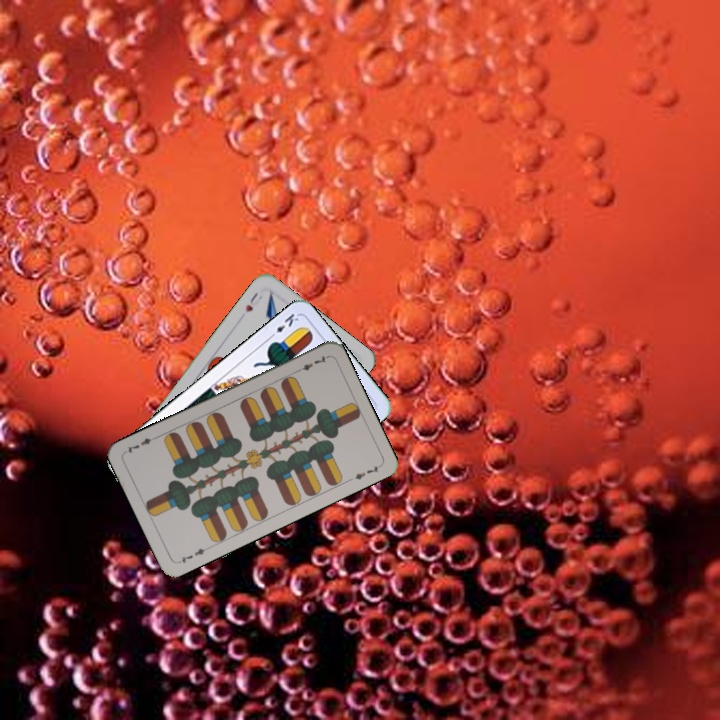E7: (292, 351, 330, 375), (174, 543, 212, 566)
EK: (265, 309, 301, 341)
HU: (241, 288, 265, 315)
